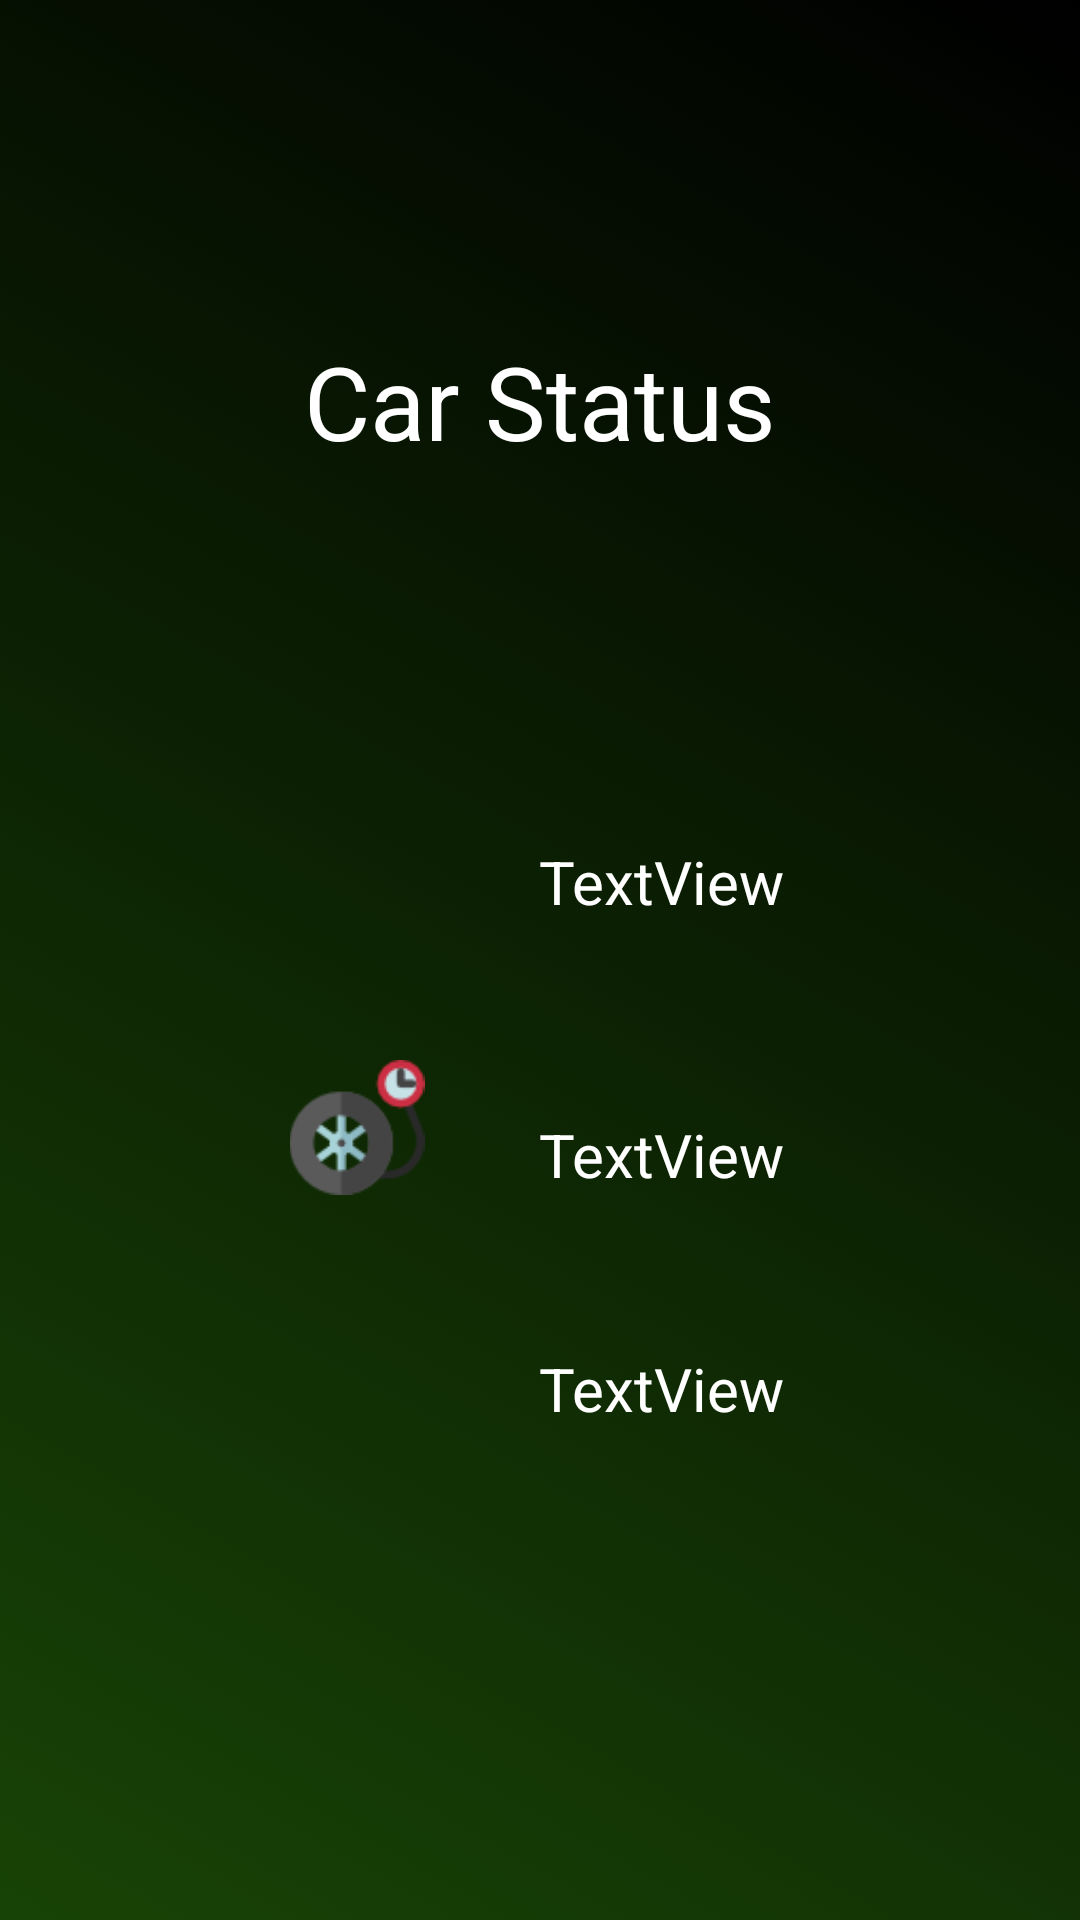

Screen size 1080×1920. Icon name, then its box in pixels as (x1, y1, x2, y2):
wheelpressure: (290, 1060, 425, 1195)
